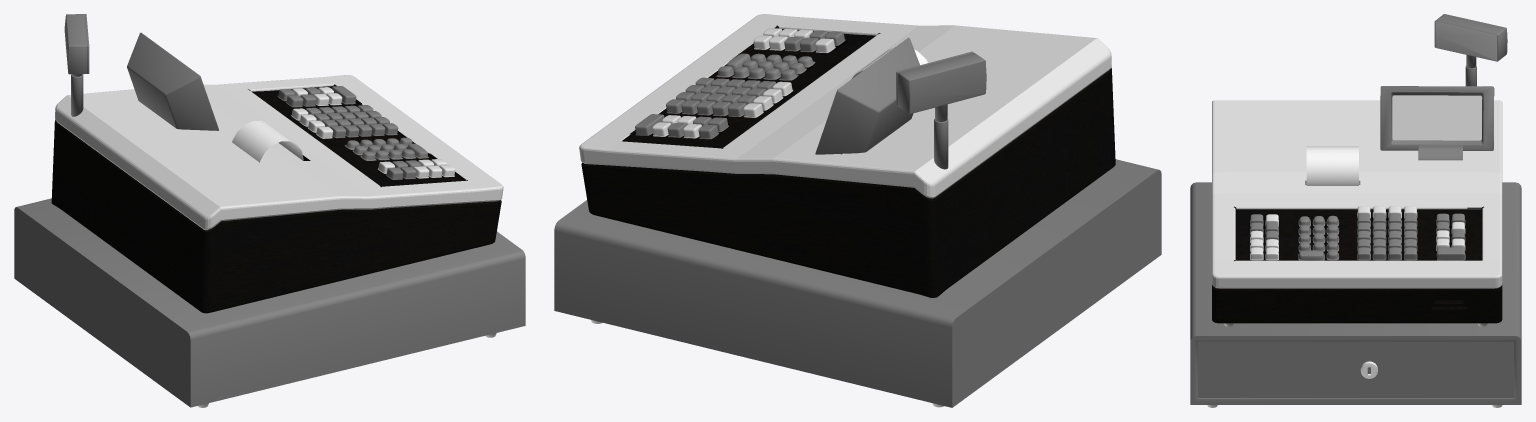
Rendered from cash.glb.
3 views of the same model, side by side, from view 1: azimuth 30°, elevation 25°; view 2: azimuth 150°, elevation 25°; view 3: azimuth 270°, elevation 25° (orthographic). The views are drawn at different scales.
Visible parts, largest first — view 1: cash02_Cube.001, cash01_Cube, Cube.008_Cube.003, cash02.001_Cube.012, Cube.001_Cube.004, Cylinder.011, Cube.009_Cube.011, Cube.005_Cube.008, Cube.006_Cube.009, Cylinder, Cube.003_Cube.006, Cube_Cube.002; view 2: cash02_Cube.001, cash01_Cube, Cube.008_Cube.003, Cube.009_Cube.011, cash02.001_Cube.012, Cube.001_Cube.004, Cube.005_Cube.008, Cube.006_Cube.009, Cube_Cube.002, Cylinder; view 3: cash02_Cube.001, cash01_Cube, Cube.008_Cube.003, cash02.001_Cube.012, Cube.001_Cube.004, Cube.009_Cube.011, Cylinder.011, Cube.005_Cube.008, Cube.006_Cube.009, Plane, Cube_Cube.002, Cube.002_Cube.005 (+2 smaller).
Boxes of the visible parts, x1=… form: cash02_Cube.001: x1=51, y1=75, x2=503, y2=313; cash01_Cube: x1=14, y1=198, x2=525, y2=407; Cube.008_Cube.003: x1=127, y1=32, x2=218, y2=130; cash02.001_Cube.012: x1=252, y1=86, x2=463, y2=186; Cube.001_Cube.004: x1=291, y1=105, x2=398, y2=138; Cylinder.011: x1=232, y1=120, x2=303, y2=162; Cube.009_Cube.011: x1=64, y1=14, x2=89, y2=74; Cube.005_Cube.008: x1=378, y1=159, x2=455, y2=179; Cube.006_Cube.009: x1=277, y1=87, x2=342, y2=107; Cylinder: x1=71, y1=74, x2=83, y2=116; Cube.003_Cube.006: x1=360, y1=149, x2=415, y2=160; Cube_Cube.002: x1=344, y1=137, x2=412, y2=149; cash02_Cube.001: x1=579, y1=14, x2=1115, y2=297; cash01_Cube: x1=554, y1=159, x2=1161, y2=407; Cube.008_Cube.003: x1=815, y1=37, x2=919, y2=154; Cube.009_Cube.011: x1=896, y1=51, x2=986, y2=113; cash02.001_Cube.012: x1=624, y1=29, x2=875, y2=148; Cube.001_Cube.004: x1=666, y1=77, x2=793, y2=117; Cube.005_Cube.008: x1=753, y1=28, x2=845, y2=52; Cube.006_Cube.009: x1=652, y1=115, x2=728, y2=139; Cube_Cube.002: x1=716, y1=66, x2=798, y2=80; Cylinder: x1=934, y1=119, x2=948, y2=169; cash02_Cube.001: x1=1212, y1=100, x2=1502, y2=323; cash01_Cube: x1=1190, y1=182, x2=1521, y2=404; Cube.008_Cube.003: x1=1380, y1=86, x2=1494, y2=150; cash02.001_Cube.012: x1=1235, y1=209, x2=1482, y2=260; Cube.001_Cube.004: x1=1357, y1=206, x2=1417, y2=260; Cube.009_Cube.011: x1=1434, y1=14, x2=1507, y2=61; Cylinder.011: x1=1306, y1=146, x2=1358, y2=185; Cube.005_Cube.008: x1=1250, y1=214, x2=1278, y2=260; Cube.006_Cube.009: x1=1436, y1=213, x2=1465, y2=250; Plane: x1=1418, y1=144, x2=1462, y2=160; Cube_Cube.002: x1=1326, y1=215, x2=1339, y2=260; Cube.002_Cube.005: x1=1312, y1=216, x2=1325, y2=251.
Size of the model in its own units: 1.8 by 1.38 by 1.63.
Materials: 32 (13 with a texture image).
